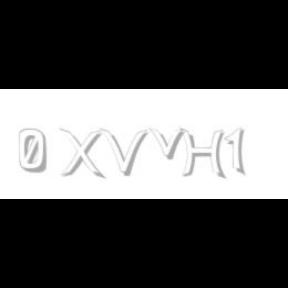0: (18, 128, 50, 174)
1: (224, 128, 246, 176)
H: (180, 128, 226, 180)
V: (100, 128, 148, 176)
X: (59, 128, 103, 180)
v: (148, 128, 188, 160)
